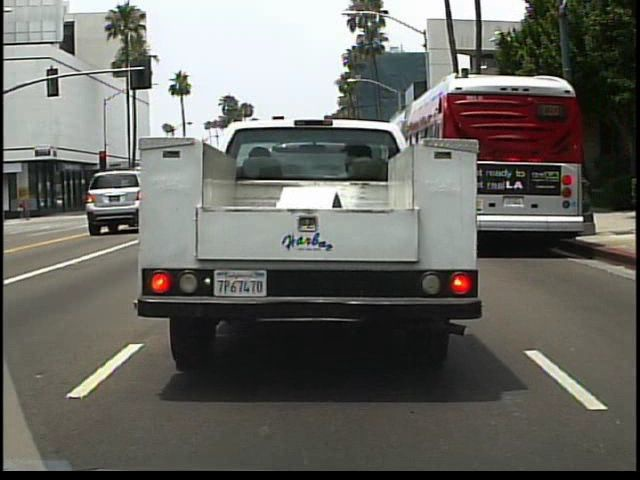person: (16, 194, 30, 222)
